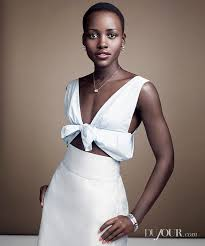black_female: (72, 3, 137, 72)
